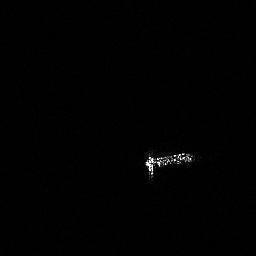ship: (145, 146, 196, 176)
